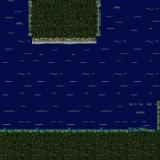Interaction: (0, 118, 160, 144), (147, 94, 160, 116)
Slow: (100, 0, 160, 127), (31, 45, 100, 128), (0, 0, 30, 127)
